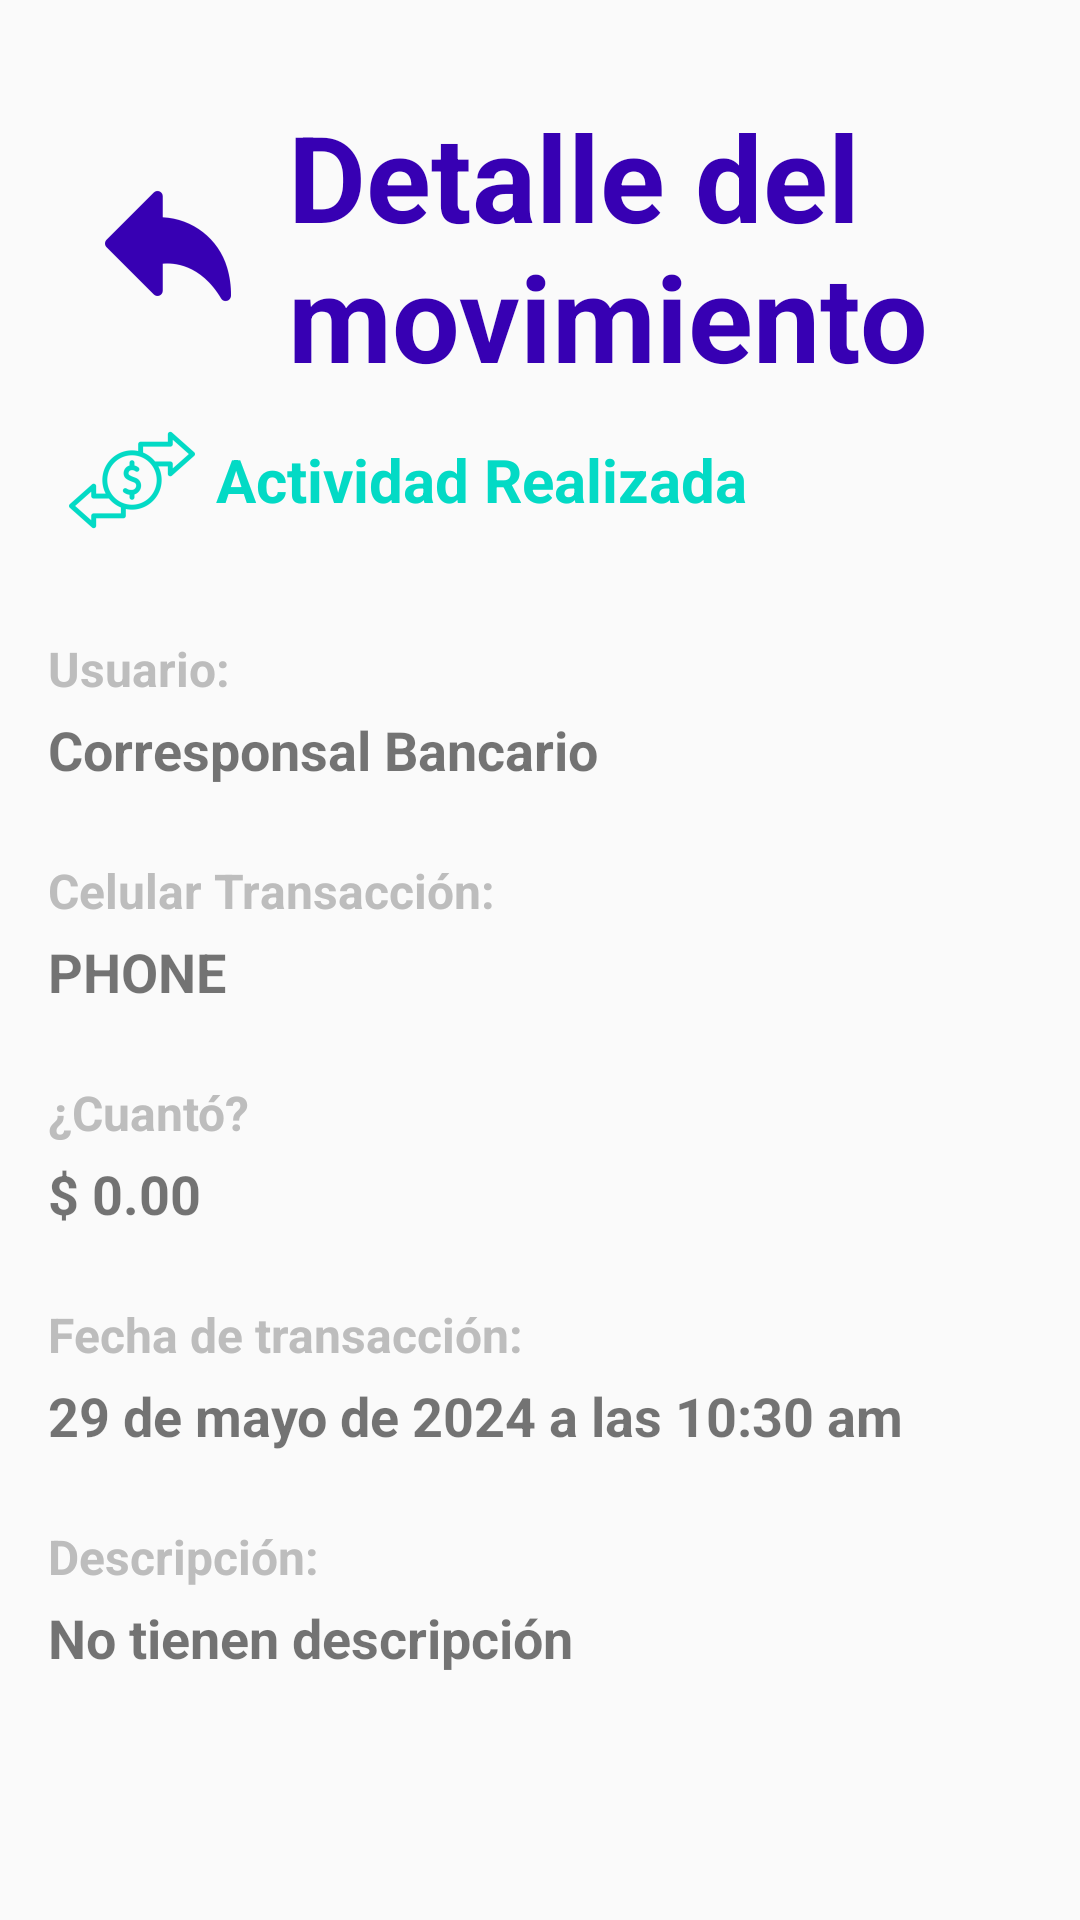

Where icons sit on this 1080×1920 app screen, as [x1=x1, y1=y1, x2=x2, y2=y2]:
return: [x1=105, y1=191, x2=231, y2=301]
transaccion: [x1=69, y1=431, x2=195, y2=529]
